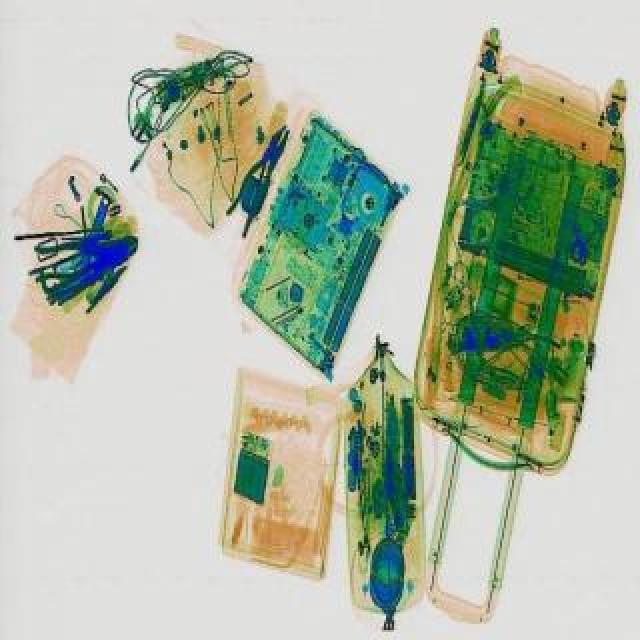scissors: (68, 194, 112, 278)
wrench: (24, 222, 148, 308), (216, 118, 302, 234)
